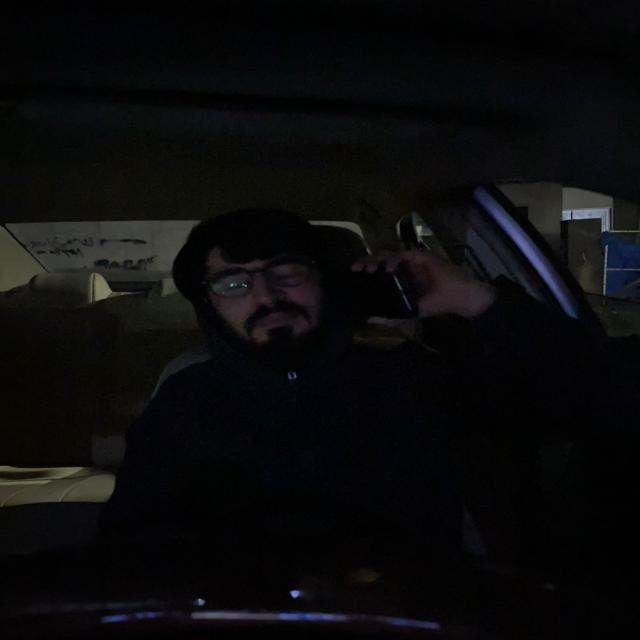mobile: (346, 266, 424, 330)
person: (187, 239, 332, 350)
